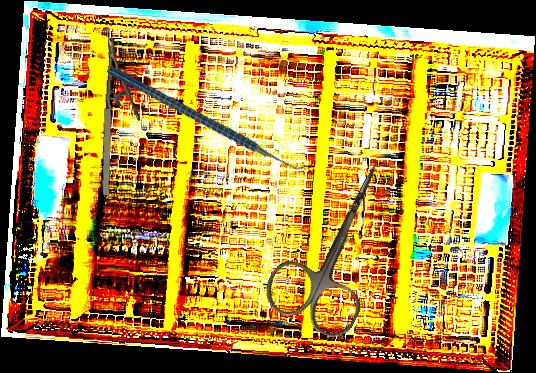Chopper: (106, 10, 315, 225)
Iris Scissors: (257, 141, 423, 344)
Needle Holder: (97, 35, 146, 198)
